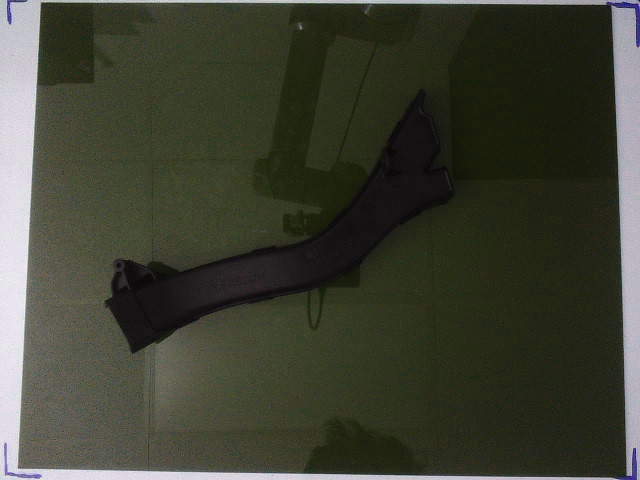887_A-Top: (105, 88, 455, 352)
